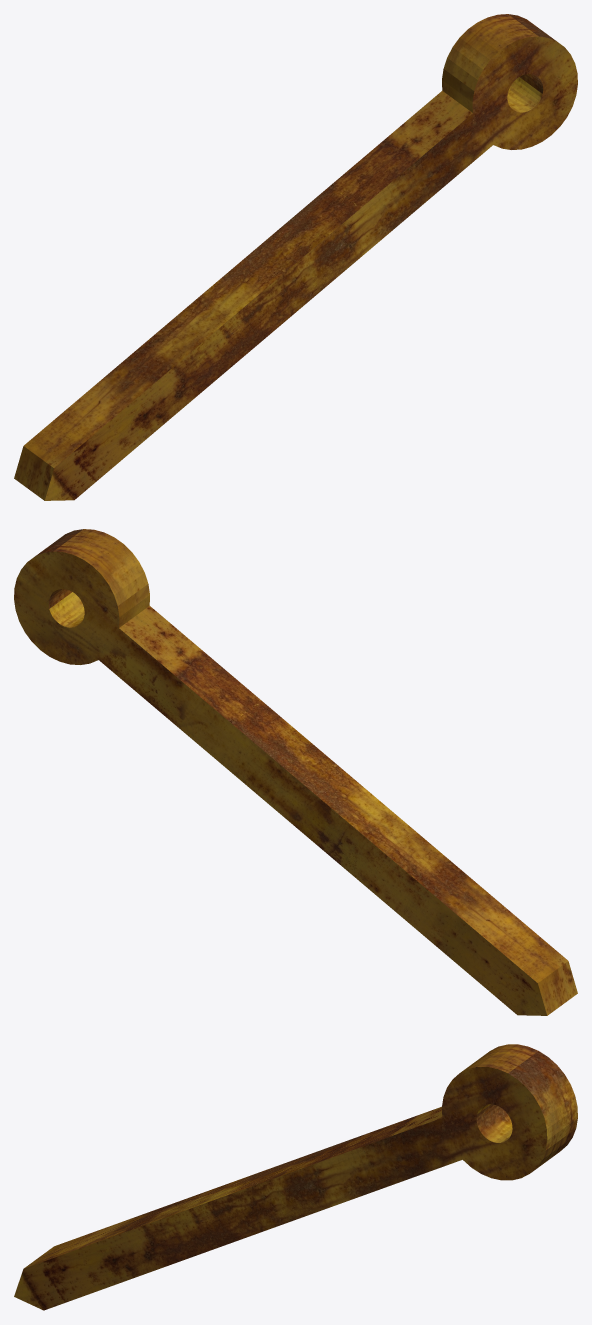
Rendered from minute.dae.
3 renders of one model, top to bottom at view 1: azimuth 30°, elevation 25°; view 2: azimuth 150°, elevation 25°; view 3: azimuth 330°, elevation 25°, orthographic.
Parts seen in each view (by area): view 1: Circle.002; view 2: Circle.002; view 3: Circle.002.
Boxes of the visible parts, x1,y1,x2,y2 form: Circle.002: [14, 14, 577, 500]; Circle.002: [14, 529, 577, 1015]; Circle.002: [14, 1044, 577, 1310].
Bounding box in the file's own units: 35.11 × 3.5 × 22.16.
